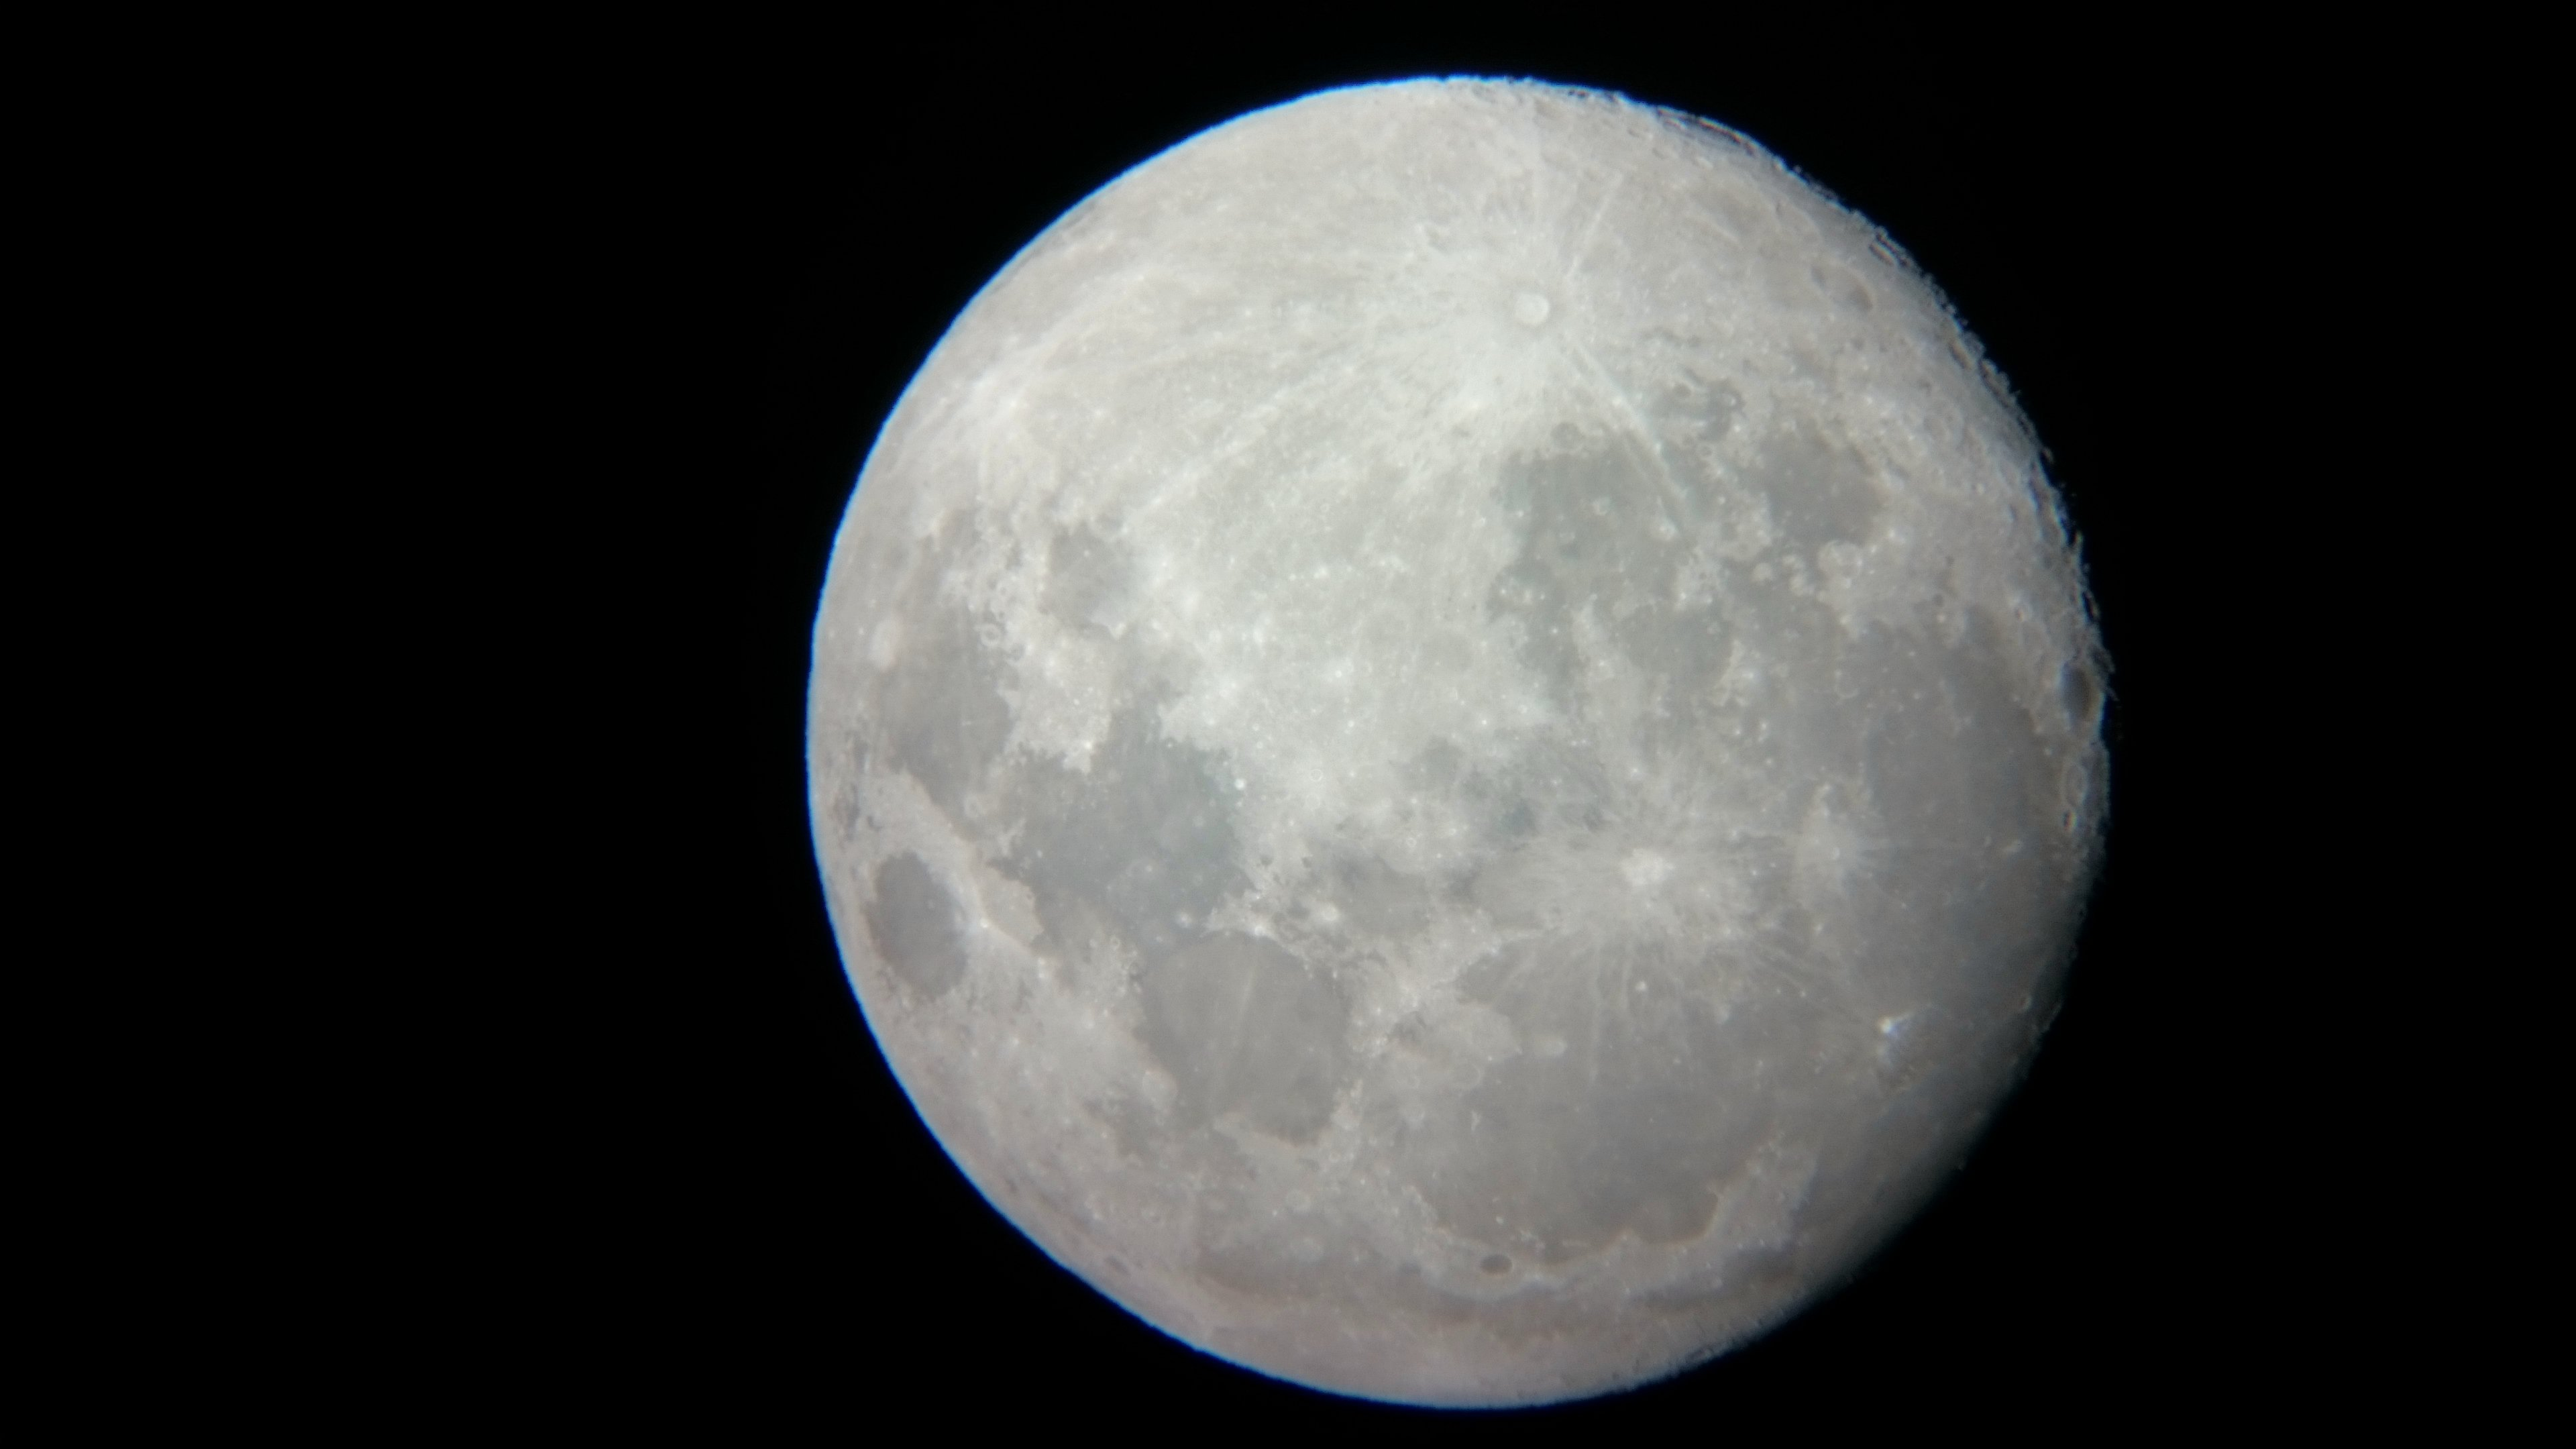crater: (1343, 173, 1727, 464), (847, 842, 1026, 1012), (1769, 752, 1923, 938), (1585, 809, 1727, 957), (1964, 784, 2042, 927), (1468, 1210, 1537, 1300), (1286, 878, 1362, 954), (1200, 750, 1276, 816)
